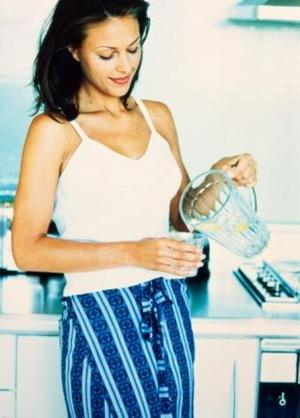person: (12, 3, 257, 417)
